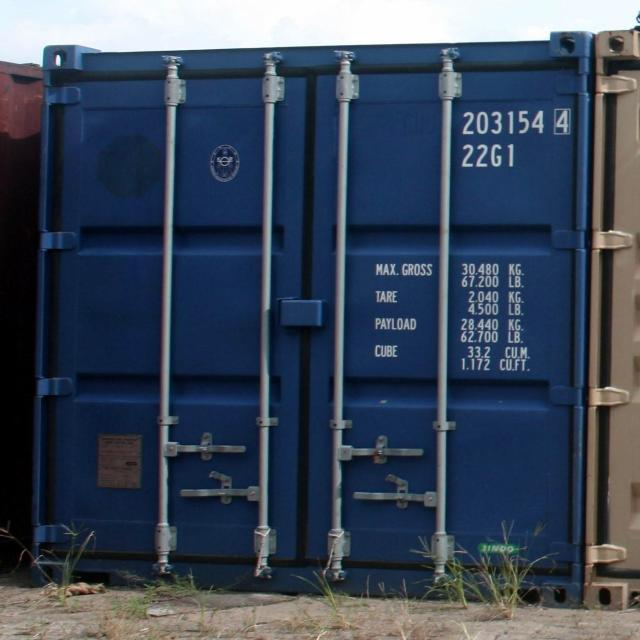ISO: (461, 142, 520, 170)
container_number: (462, 109, 572, 137)
